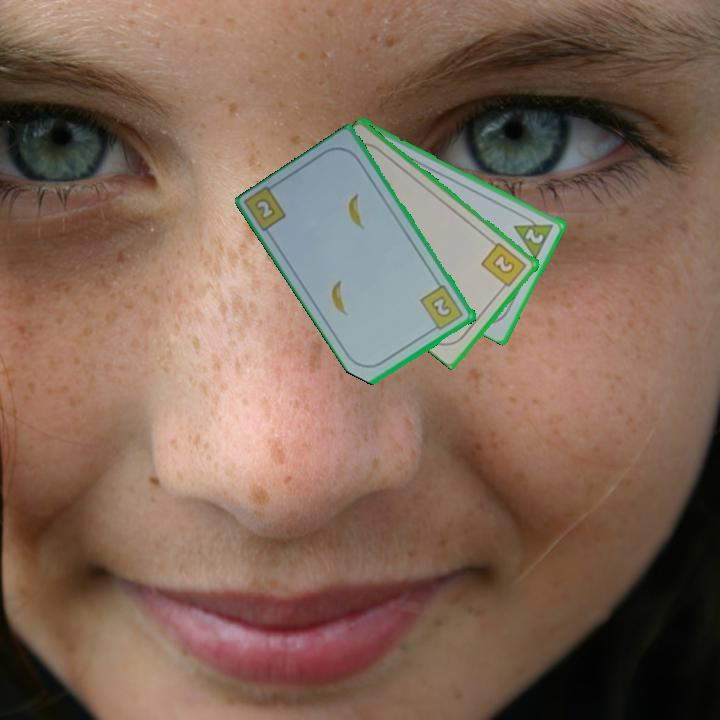2b: (478, 239, 530, 293), (417, 282, 466, 334), (250, 195, 279, 223)
2p: (522, 224, 547, 247)
